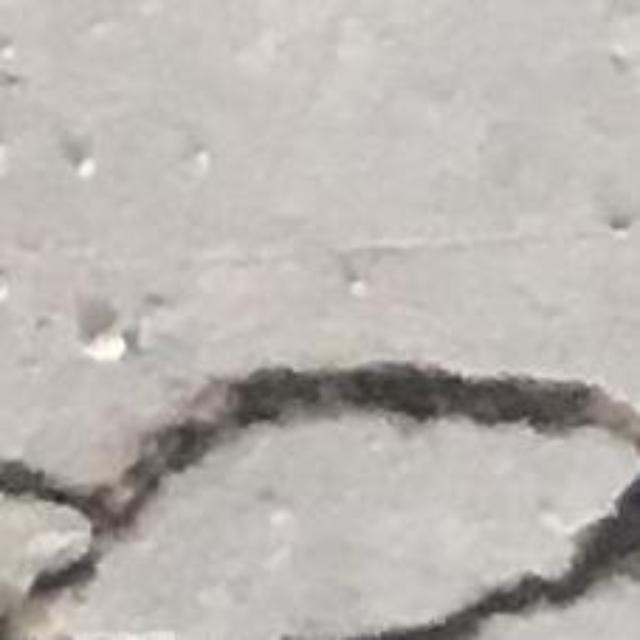crack: (0, 361, 639, 639)
